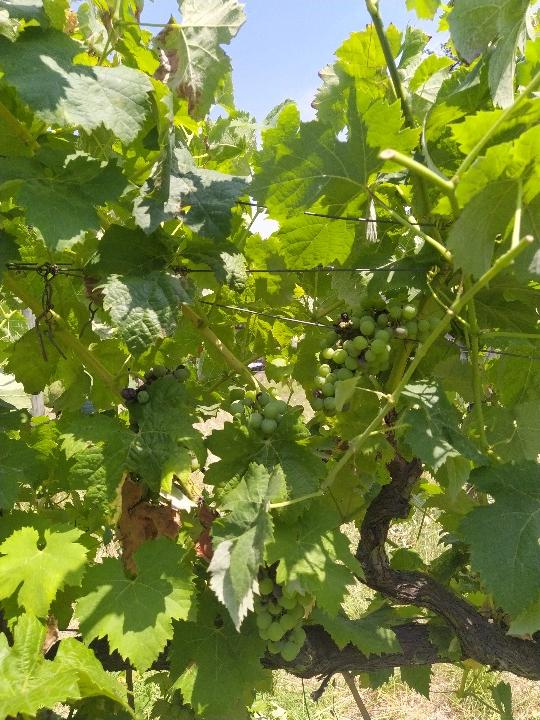grape: (311, 292, 431, 412)
